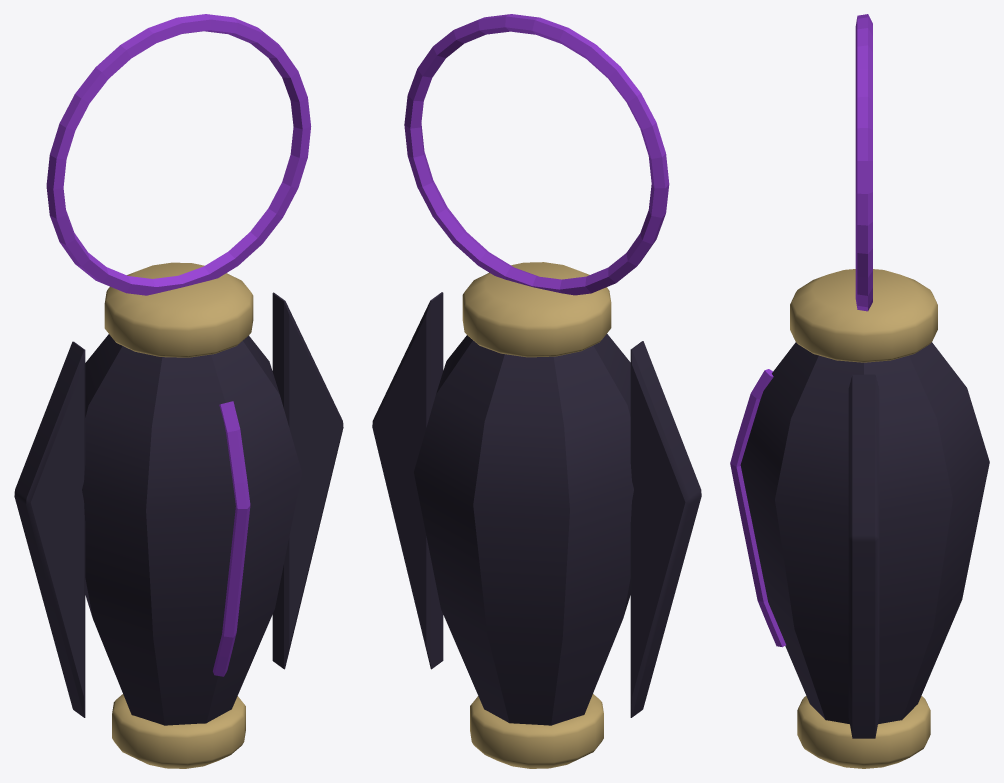
The model's file is Kit_Limb_LeagueFloat_S.glb.
The picture shows the model from 3 angles, left to right: view 1: azimuth 30°, elevation 25°; view 2: azimuth 150°, elevation 25°; view 3: azimuth 270°, elevation 25°; orthographic projection.
Parts seen in each view (by area): view 1: Kit_Limb_LeagueFloat_S; view 2: Kit_Limb_LeagueFloat_S; view 3: Kit_Limb_LeagueFloat_S.
Boxes of the visible parts, box(x1,y1,x2,y2) form: Kit_Limb_LeagueFloat_S: box(14, 14, 343, 768); Kit_Limb_LeagueFloat_S: box(372, 14, 701, 768); Kit_Limb_LeagueFloat_S: box(730, 14, 989, 768).
Bounding box in the file's own units: 0.1418 × 0.3118 × 0.1017.
